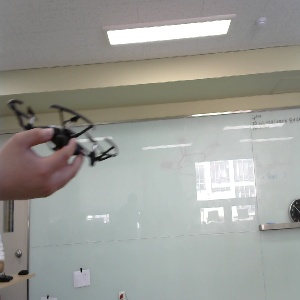Drone: (1, 97, 122, 176)
